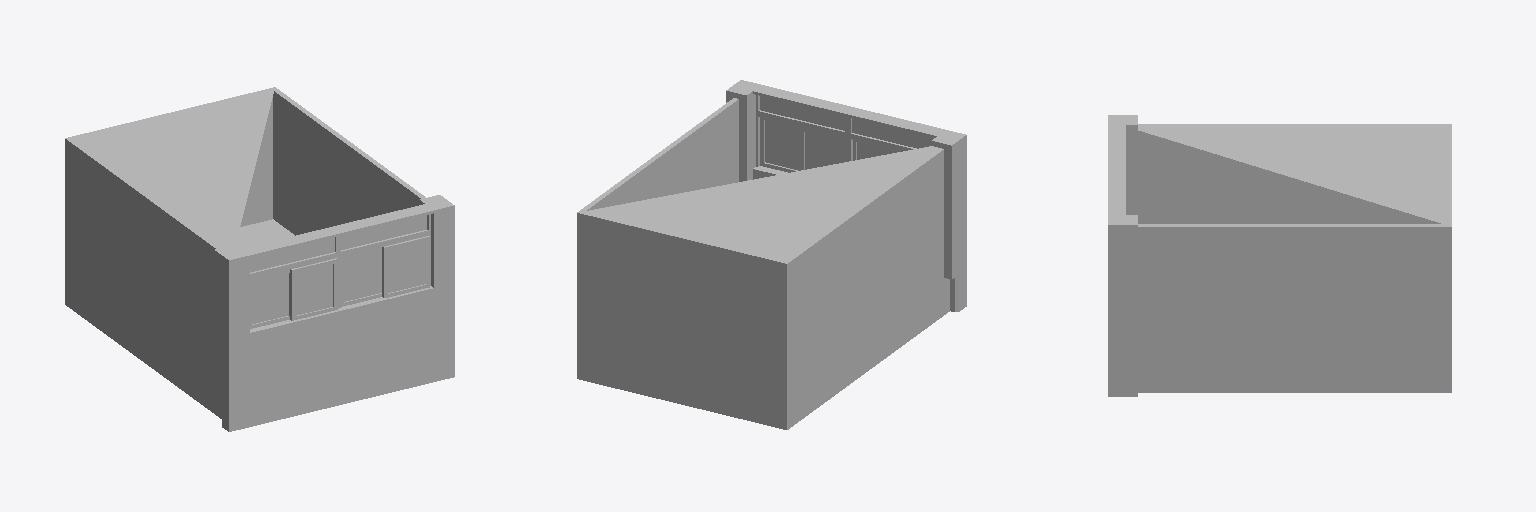
3 views of the same model, side by side, from view 1: azimuth 30°, elevation 25°; view 2: azimuth 150°, elevation 25°; view 3: azimuth 270°, elevation 25° (orthographic).
Visible parts, largest first — view 1: Mesh1 Group1 Model, Mesh3 Group3 Model, Mesh5 Group5 Model, Mesh2 Group2 Model, Mesh20 Glazing5 Window_Sliding_Casement_4_2 Window_Sliding_2_2 G, Mesh23 Glazing7 Window_Sliding_Casement_4_3 Window_Sliding_2_2 G, Mesh6 Group6 Model, Mesh16 Glazing3 Window_Sliding_Casement_4_1 Window_Sliding_2_1 G, Mesh13 Glazing1 Window_Sliding_Casement_4 Window_Sliding_2_1 Gro, Mesh10 Group13 Group11 Group7 Model, Mesh8 Group10 Group8 Group7 Model, Mesh17 Window_Sliding_Casement_4_1 Window_Sliding_2_1 Group7 Mod (+2 smaller); view 2: Mesh1 Group1 Model, Mesh2 Group2 Model, Mesh5 Group5 Model, Mesh3 Group3 Model, Mesh6 Group6 Model, Mesh4 Group4 Model, Mesh22 Glazing6 Window_Sliding_Casement_4_3 Window_Sliding_2_2 G, Mesh10 Group13 Group11 Group7 Model, Mesh8 Group10 Group8 Group7 Model, Mesh19 Glazing4 Window_Sliding_Casement_4_2 Window_Sliding_2_2 G; view 3: Mesh5 Group5 Model, Mesh1 Group1 Model, Mesh2 Group2 Model, Mesh3 Group3 Model, Mesh4 Group4 Model, Mesh6 Group6 Model.
Part boxes in pixels (left/top/right/bottom): Mesh1 Group1 Model: left=65, top=87, right=276, bottom=375; Mesh3 Group3 Model: left=222, top=199, right=454, bottom=431; Mesh5 Group5 Model: left=273, top=89, right=425, bottom=235; Mesh2 Group2 Model: left=65, top=219, right=294, bottom=418; Mesh20 Glazing5 Window_Sliding_Casement_4_2 Window_Sliding_2_2 G: left=344, top=250, right=381, bottom=301; Mesh23 Glazing7 Window_Sliding_Casement_4_3 Window_Sliding_2_2 G: left=388, top=241, right=425, bottom=292; Mesh6 Group6 Model: left=214, top=245, right=249, bottom=391; Mesh16 Glazing3 Window_Sliding_Casement_4_1 Window_Sliding_2_1 G: left=296, top=264, right=332, bottom=315; Mesh13 Glazing1 Window_Sliding_Casement_4 Window_Sliding_2_1 Gro: left=252, top=273, right=288, bottom=323; Mesh10 Group13 Group11 Group7 Model: left=341, top=215, right=426, bottom=249; Mesh8 Group10 Group8 Group7 Model: left=250, top=237, right=334, bottom=272; Mesh17 Window_Sliding_Casement_4_1 Window_Sliding_2_1 Group7 Mod: left=290, top=258, right=337, bottom=320; Mesh1 Group1 Model: left=577, top=146, right=943, bottom=392; Mesh2 Group2 Model: left=577, top=278, right=949, bottom=429; Mesh5 Group5 Model: left=580, top=98, right=738, bottom=210; Mesh3 Group3 Model: left=733, top=80, right=966, bottom=311; Mesh6 Group6 Model: left=931, top=130, right=966, bottom=279; Mesh4 Group4 Model: left=726, top=80, right=755, bottom=181; Mesh22 Glazing6 Window_Sliding_Casement_4_3 Window_Sliding_2_2 G: left=765, top=120, right=799, bottom=170; Mesh10 Group13 Group11 Group7 Model: left=760, top=96, right=844, bottom=130; Mesh8 Group10 Group8 Group7 Model: left=852, top=118, right=933, bottom=148; Mesh19 Glazing4 Window_Sliding_Casement_4_2 Window_Sliding_2_2 G: left=805, top=132, right=841, bottom=169; Mesh5 Group5 Model: left=1138, top=224, right=1445, bottom=355; Mesh1 Group1 Model: left=1138, top=124, right=1451, bottom=355; Mesh2 Group2 Model: left=1126, top=356, right=1451, bottom=396; Mesh3 Group3 Model: left=1108, top=115, right=1125, bottom=396; Mesh4 Group4 Model: left=1108, top=215, right=1137, bottom=358; Mesh6 Group6 Model: left=1108, top=115, right=1137, bottom=214.
Size of the model in its own units: 4.4 by 3.2 by 5.8.